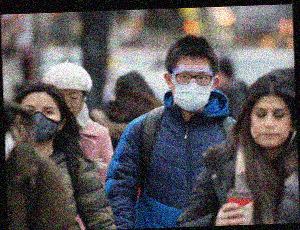with_mask: (171, 62, 215, 112), (20, 100, 61, 145)
without_mask: (248, 102, 293, 149), (60, 87, 85, 120)
